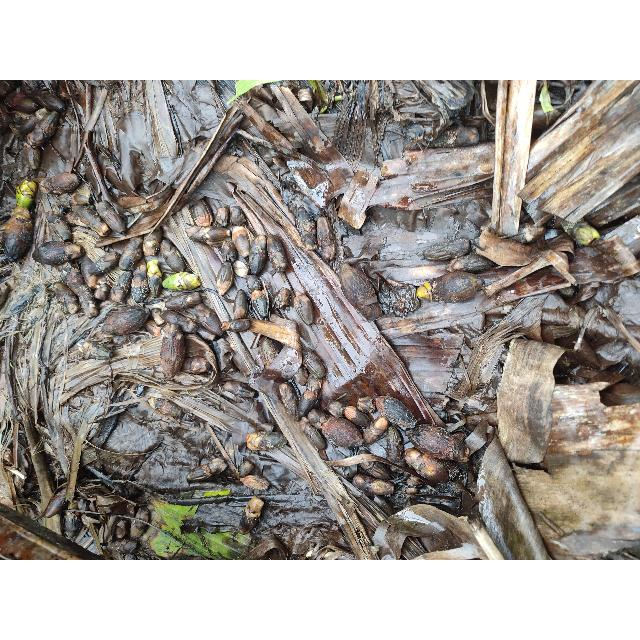damaged: (414, 423, 466, 462), (34, 242, 82, 266), (96, 200, 126, 234), (82, 250, 120, 276), (50, 281, 80, 313), (190, 304, 222, 334), (148, 396, 184, 422), (162, 310, 200, 334), (161, 240, 187, 274), (450, 253, 494, 273), (45, 212, 73, 242), (187, 225, 229, 245), (248, 235, 268, 277), (162, 290, 204, 310), (278, 383, 300, 421), (118, 238, 144, 270), (300, 420, 326, 452), (72, 340, 112, 360), (268, 234, 288, 274), (317, 218, 335, 262), (62, 264, 86, 296), (110, 268, 132, 302), (301, 347, 325, 378), (293, 290, 313, 326), (386, 425, 404, 465), (78, 284, 100, 314), (131, 266, 149, 302), (216, 262, 234, 296), (260, 338, 280, 368), (298, 390, 318, 420), (181, 356, 213, 374), (232, 226, 250, 258), (147, 262, 163, 298), (191, 200, 211, 226), (142, 230, 162, 256), (296, 206, 314, 234), (222, 381, 252, 397), (273, 286, 291, 310), (234, 290, 248, 320), (300, 232, 318, 254), (222, 318, 250, 332), (306, 372, 322, 396), (144, 317, 164, 335), (214, 206, 230, 228), (230, 206, 246, 228), (293, 365, 309, 387), (245, 274, 262, 294), (222, 240, 236, 264), (238, 459, 256, 477), (233, 260, 249, 278)
